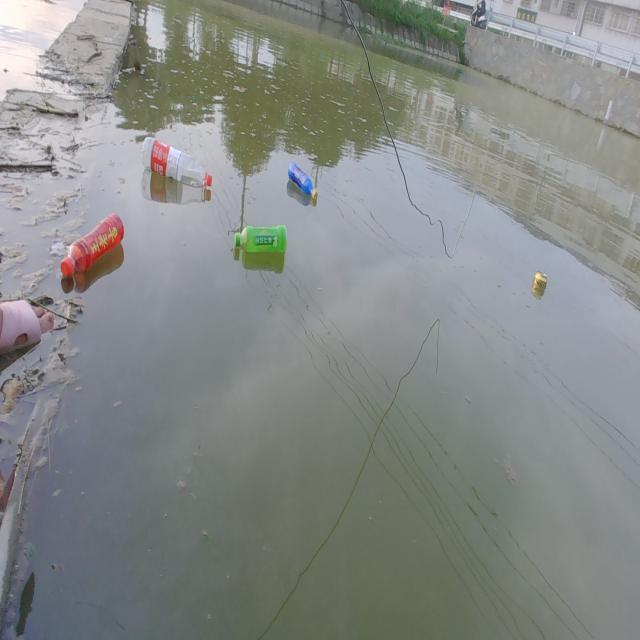bottle: (135, 121, 240, 206), (53, 204, 133, 292), (219, 219, 307, 266), (0, 286, 46, 374), (272, 156, 326, 208)
